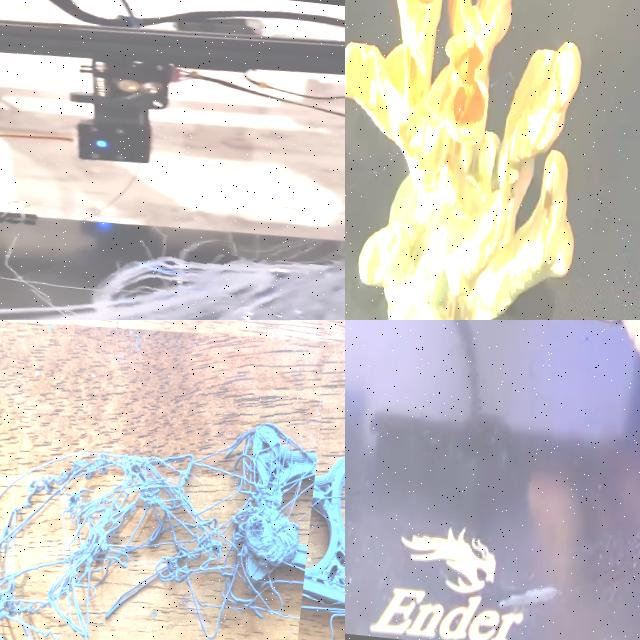spaghetti: (0, 359, 322, 640), (80, 241, 345, 320)
